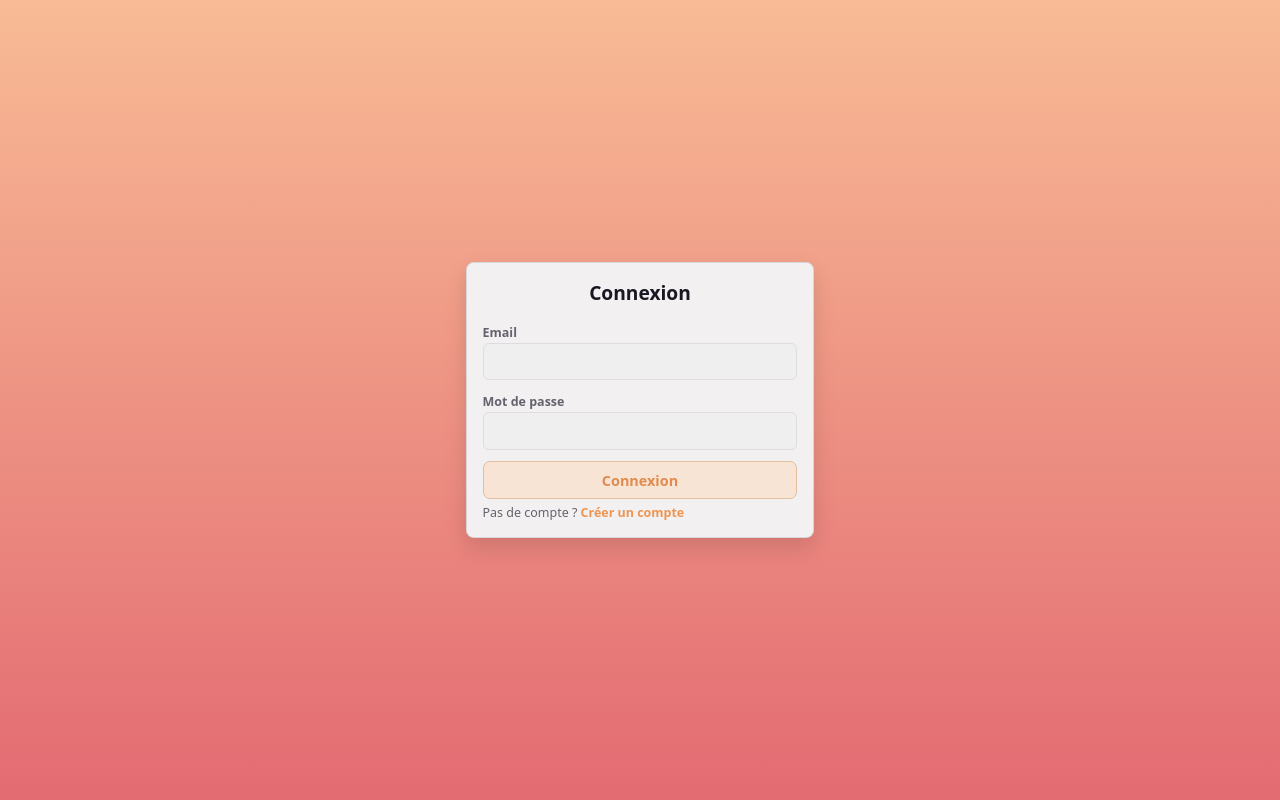
Test: WelcomePage › 13.1.4 Create account link from login → register form
Expected: the heading "Connexion" is shown, [589, 279, 691, 306]
Click the text "Créer un compte" at (632, 512), box [581, 504, 684, 521]
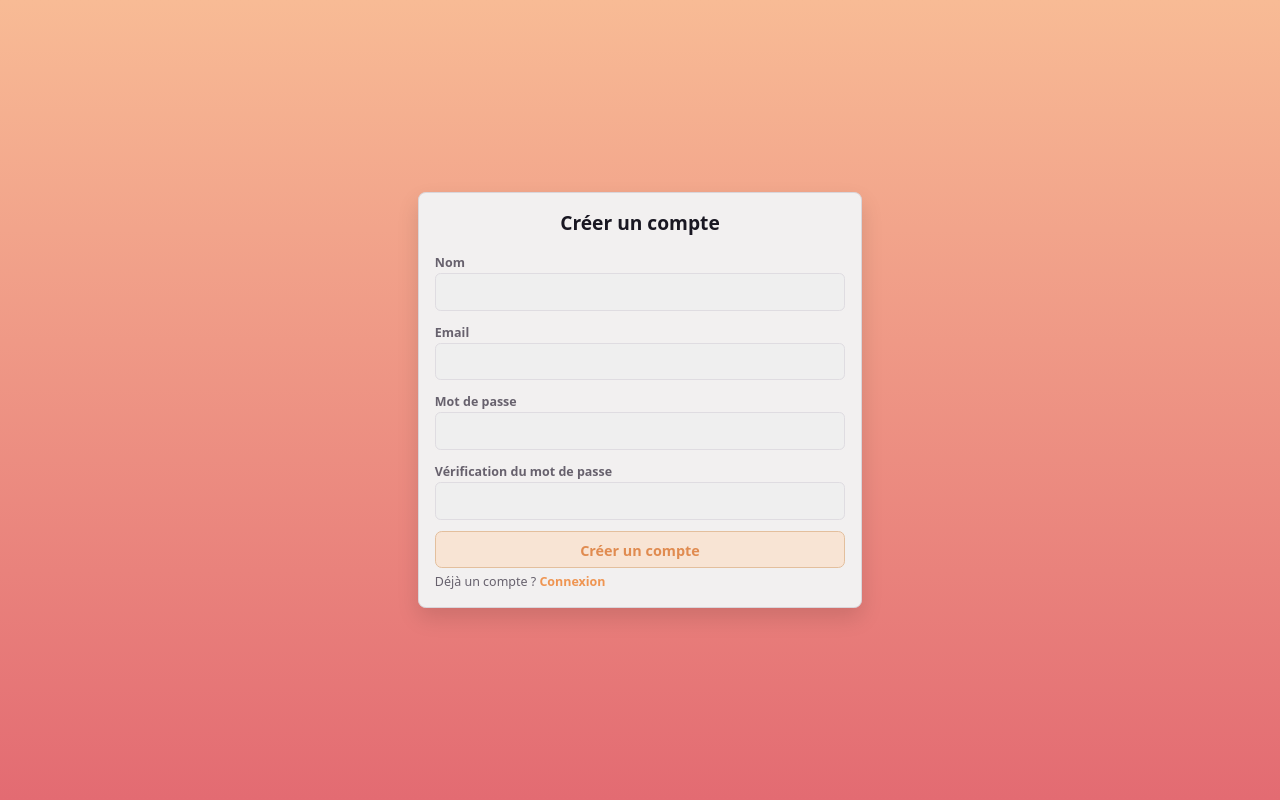
Expected: the heading "Créer un compte" is shown, [560, 209, 720, 236]
